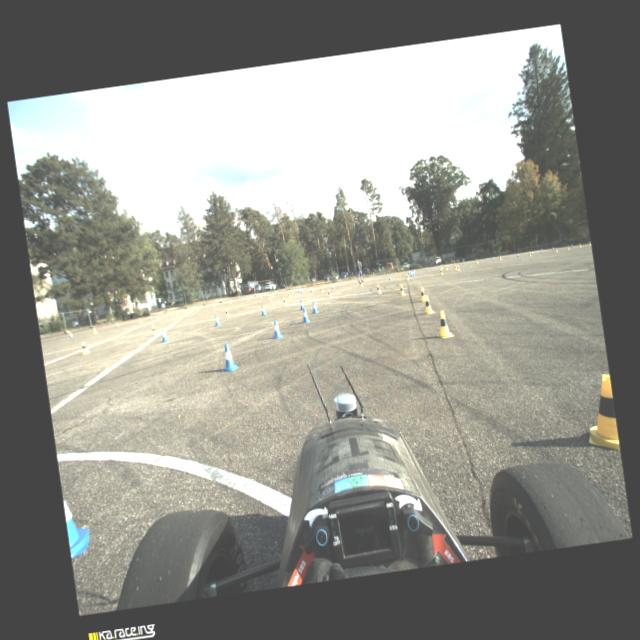blue_cone: (62, 491, 92, 558), (218, 342, 240, 372), (271, 319, 284, 339), (300, 308, 310, 324), (160, 329, 169, 342), (310, 300, 318, 314), (214, 314, 221, 326), (260, 305, 266, 316), (298, 300, 304, 310), (69, 332, 73, 338), (331, 284, 335, 289), (309, 288, 313, 292), (516, 253, 520, 257), (388, 275, 391, 280), (410, 272, 413, 277), (149, 315, 152, 320), (116, 322, 119, 327), (530, 250, 532, 256), (540, 248, 543, 252), (412, 270, 414, 276), (194, 306, 197, 310), (492, 256, 494, 261), (463, 260, 465, 265), (301, 288, 303, 293), (552, 247, 555, 250), (570, 244, 572, 248), (442, 264, 444, 268), (426, 266, 428, 270), (408, 270, 410, 274), (414, 269, 416, 273), (295, 288, 297, 292), (297, 288, 299, 292), (299, 288, 301, 292), (277, 290, 279, 294), (250, 296, 252, 300), (211, 302, 213, 306), (290, 289, 292, 292), (232, 299, 234, 302), (263, 294, 265, 296)
yellow_cone: (580, 373, 621, 455), (435, 309, 455, 339), (422, 294, 436, 315), (80, 340, 90, 355), (419, 287, 426, 302), (152, 324, 158, 336), (224, 308, 230, 318), (376, 284, 382, 294), (282, 297, 288, 306), (400, 284, 404, 296), (328, 290, 332, 298), (456, 265, 461, 271), (439, 268, 444, 274), (359, 280, 364, 286), (320, 287, 324, 293), (454, 264, 458, 270), (406, 274, 410, 280), (588, 240, 592, 246), (578, 242, 582, 248), (498, 256, 502, 261), (566, 245, 570, 250), (94, 328, 98, 333), (174, 310, 177, 316), (268, 296, 272, 300), (270, 294, 274, 298), (445, 265, 448, 270), (476, 259, 479, 264), (529, 251, 532, 256), (247, 296, 250, 301), (212, 302, 215, 307), (288, 292, 290, 298), (555, 248, 558, 252), (439, 266, 442, 270), (440, 264, 442, 269), (267, 294, 269, 299), (272, 292, 274, 297), (260, 294, 262, 299), (140, 318, 142, 323), (454, 262, 456, 266), (230, 300, 232, 304), (196, 306, 198, 310)
